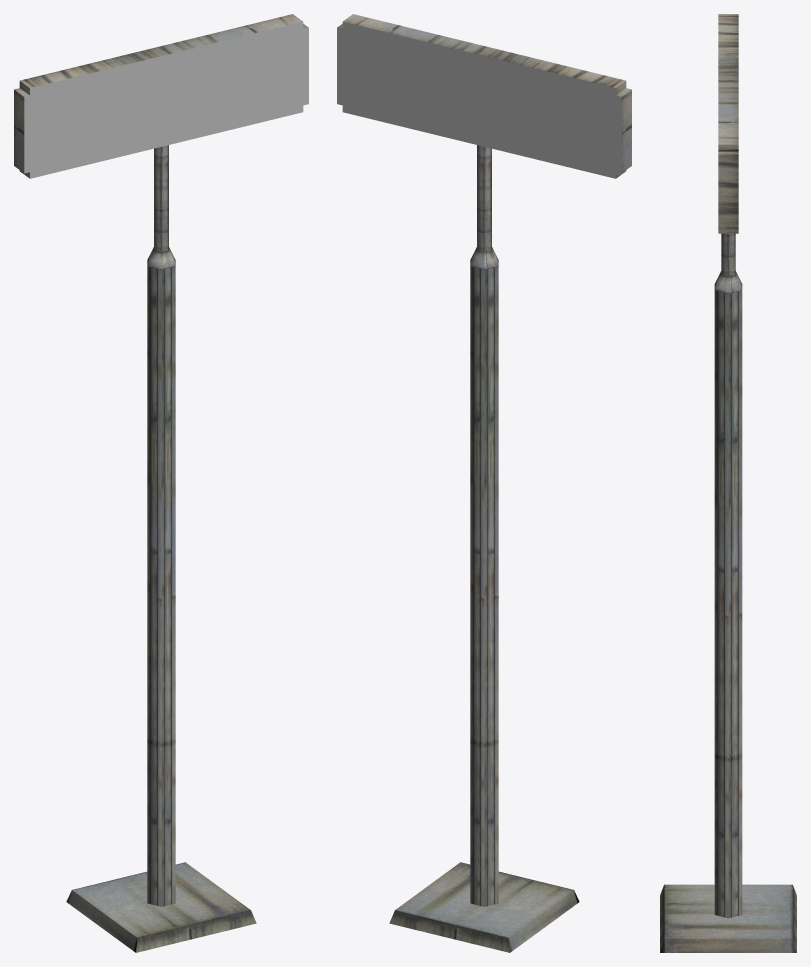
Rendered from Model_BillBoard_02.fbx.
The picture shows the model from 3 angles, left to right: view 1: azimuth 30°, elevation 25°; view 2: azimuth 150°, elevation 25°; view 3: azimuth 270°, elevation 25°; orthographic projection.
Parts seen in each view (by area): view 1: BillBoard_02; view 2: BillBoard_02; view 3: BillBoard_02.
Part boxes in pixels (bbox=[...]): BillBoard_02: bbox=[14, 14, 308, 952]; BillBoard_02: bbox=[337, 14, 631, 952]; BillBoard_02: bbox=[660, 14, 796, 952].
Size of the model in its own units: 185 by 535 by 78.37.
